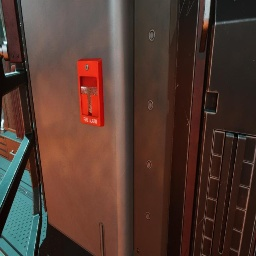FireAlarm ,: (77, 58, 104, 127)
